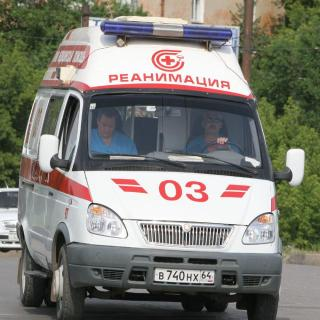Ambulance: (0, 11, 311, 320)
